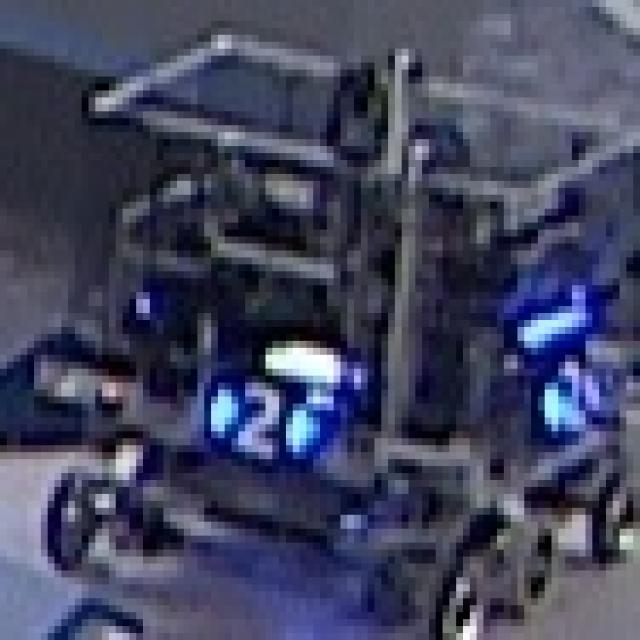B2: (191, 376, 320, 466), (531, 355, 613, 438)
